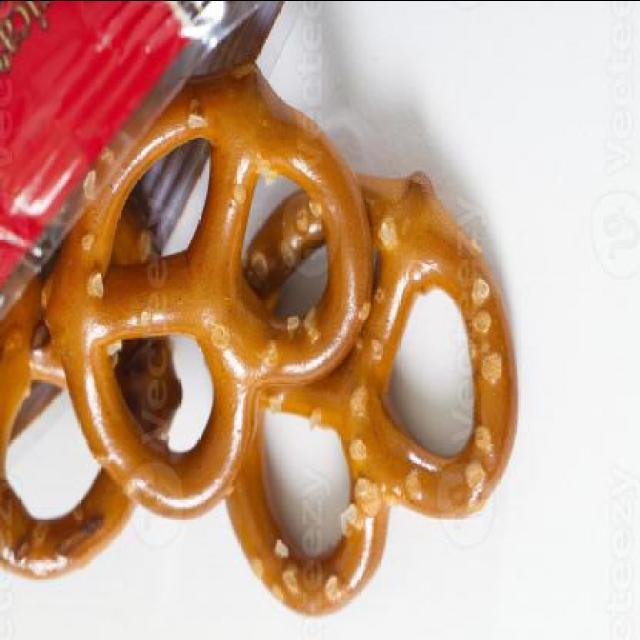Salatini packaged: (3, 58, 523, 620)
